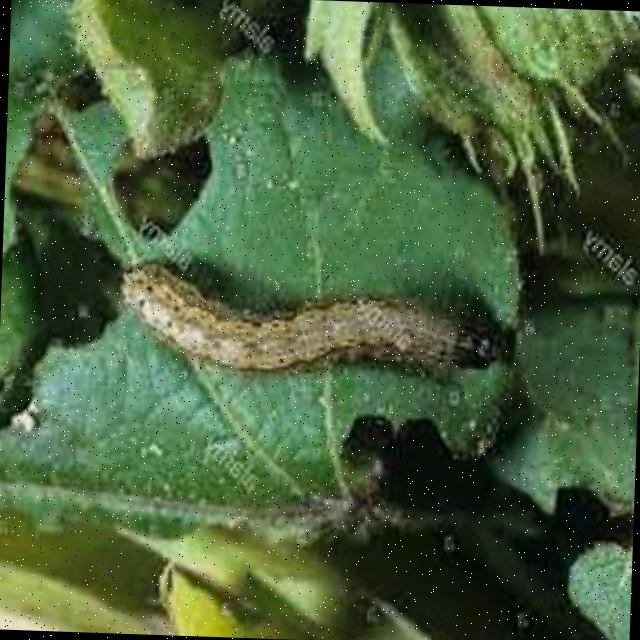worm: (116, 255, 510, 386)
